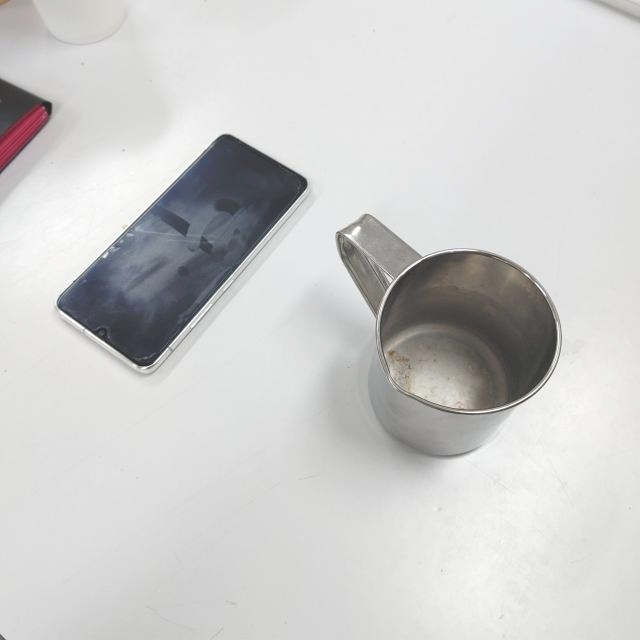cup: (335, 211, 561, 457)
phone: (54, 131, 311, 378)
